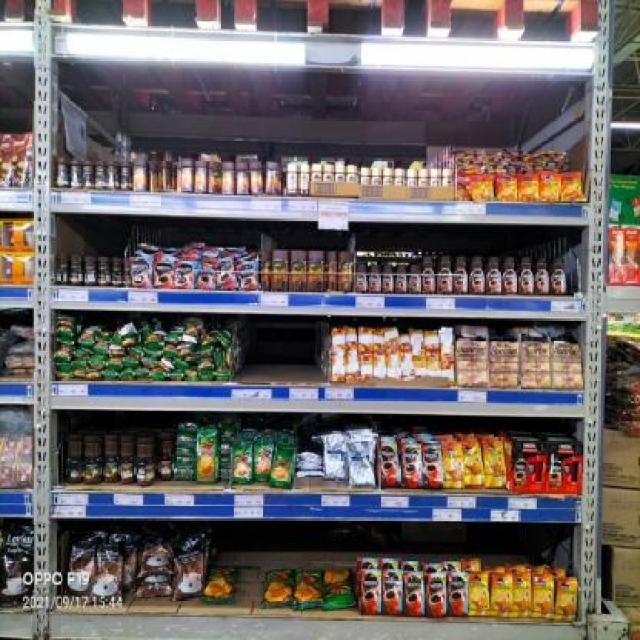Coffee: (484, 440, 507, 488), (442, 442, 464, 487), (378, 442, 400, 486), (532, 575, 554, 617), (402, 443, 423, 486), (491, 574, 512, 617), (464, 443, 484, 485), (469, 573, 489, 615), (423, 444, 442, 488), (556, 580, 576, 620), (513, 575, 532, 617), (383, 572, 402, 613), (448, 575, 467, 616), (405, 575, 424, 616), (362, 571, 380, 614), (427, 574, 445, 615), (469, 256, 485, 295), (130, 258, 150, 287), (501, 258, 517, 294), (550, 257, 565, 295), (238, 263, 258, 291), (421, 256, 436, 293), (518, 257, 533, 294), (438, 257, 453, 294), (155, 258, 174, 287), (454, 256, 468, 295), (487, 257, 501, 294), (175, 261, 194, 288), (540, 173, 558, 201), (562, 174, 581, 200), (535, 258, 548, 294), (519, 174, 538, 198), (197, 266, 216, 290), (498, 175, 516, 200), (218, 261, 234, 288), (395, 264, 408, 294), (408, 264, 421, 294), (356, 264, 369, 293), (368, 266, 381, 294), (383, 265, 394, 295), (288, 163, 298, 195), (300, 165, 310, 195), (360, 168, 371, 185), (335, 164, 345, 182), (384, 168, 394, 186), (395, 168, 405, 186), (372, 168, 382, 186), (346, 165, 357, 181), (408, 169, 418, 186), (444, 169, 454, 186), (323, 164, 332, 181), (431, 169, 440, 186), (419, 169, 428, 186), (312, 164, 320, 181)
